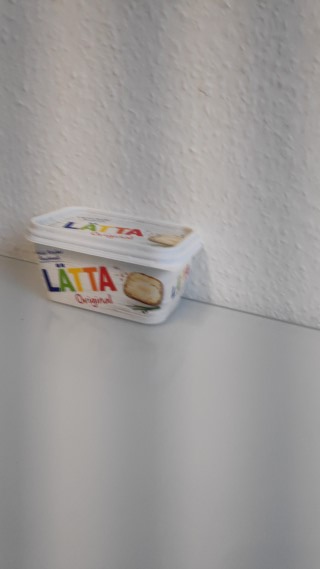laetta: (24, 203, 202, 328)
